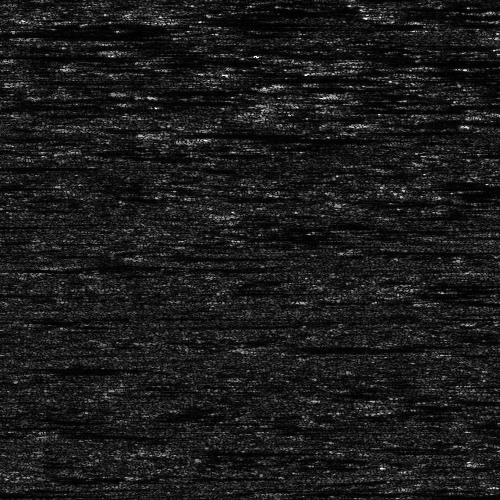rock: (130, 127, 203, 134), (238, 343, 291, 352), (135, 446, 198, 453), (276, 106, 329, 111), (0, 29, 14, 34), (0, 363, 4, 372)
shadow: (265, 343, 414, 352), (0, 363, 121, 372), (303, 106, 500, 111), (167, 446, 281, 453), (167, 127, 277, 134), (0, 29, 147, 34)
